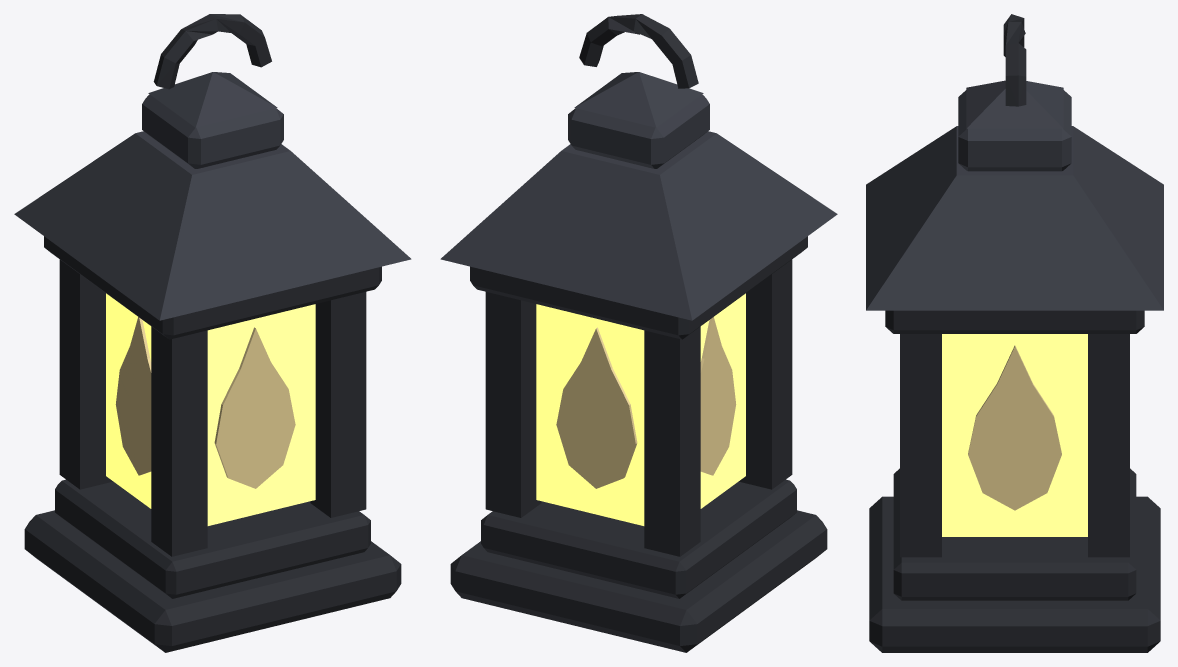
Rendered from Prop_HandLantern.fbx.
3 renders of one model, left to right at view 1: azimuth 30°, elevation 25°; view 2: azimuth 150°, elevation 25°; view 3: azimuth 270°, elevation 25°, orthographic. The views are drawn at different scales.
Visible parts, largest first — view 1: Prop_HandLantern; view 2: Prop_HandLantern; view 3: Prop_HandLantern.
Boxes of the visible parts, x1=… form: Prop_HandLantern: x1=14, y1=14, x2=411, y2=652; Prop_HandLantern: x1=440, y1=14, x2=837, y2=652; Prop_HandLantern: x1=866, y1=14, x2=1163, y2=652.
Bounding box in the file's own units: 0.184 × 0.3917 × 0.184.
